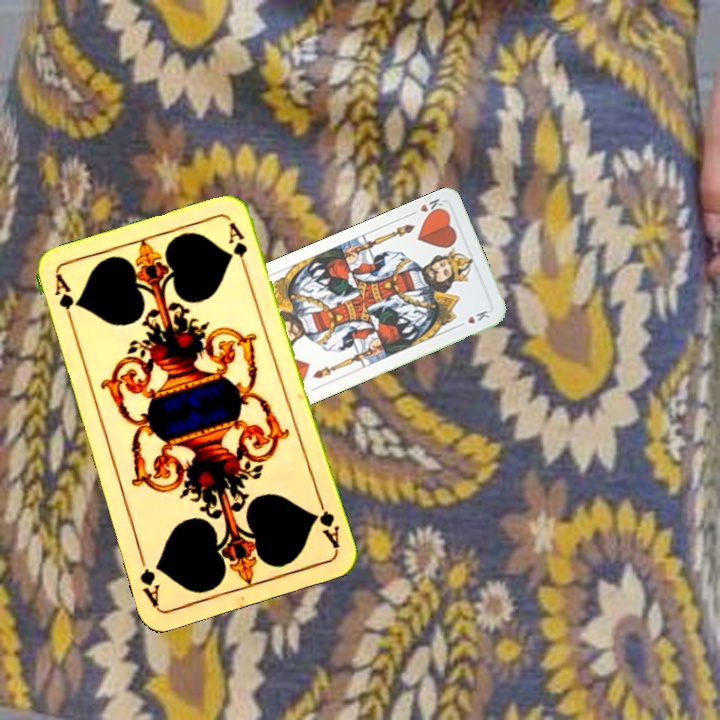GA: (309, 494, 343, 551), (50, 271, 77, 330)
HK: (406, 194, 446, 220)
